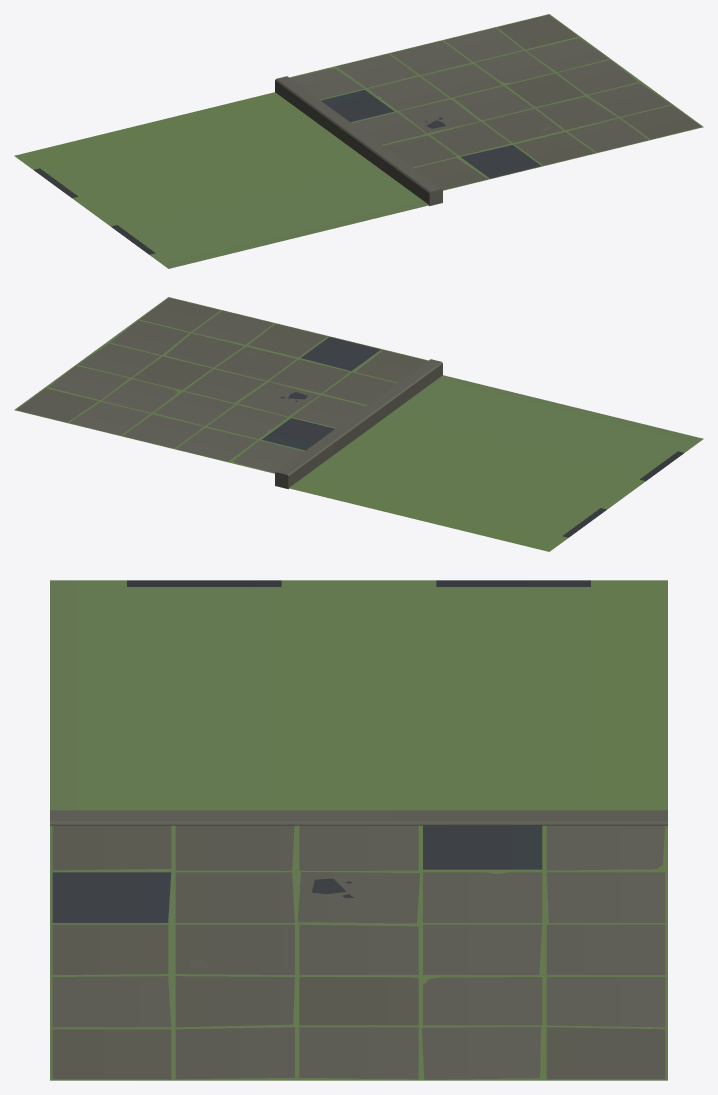
Rendered from Road_11.fbx.
The picture shows the model from 3 angles, top to bottom: view 1: azimuth 30°, elevation 25°; view 2: azimuth 150°, elevation 25°; view 3: azimuth 270°, elevation 25°; orthographic projection. The views are drawn at different scales.
Visible parts, largest first — view 1: Road_11; view 2: Road_11; view 3: Road_11.
Part boxes in pixels (x1,y1,x2,y2): Road_11: (14, 14, 703, 268); Road_11: (14, 297, 703, 551); Road_11: (50, 580, 667, 1080).
Size of the model in its own units: 6 by 0.15 by 3.
